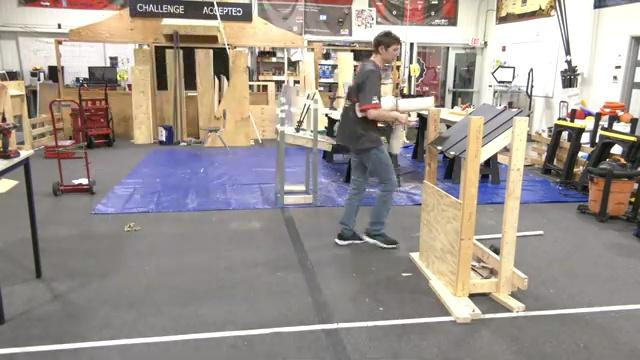CORAL: (397, 96, 436, 114), (388, 121, 405, 155)
